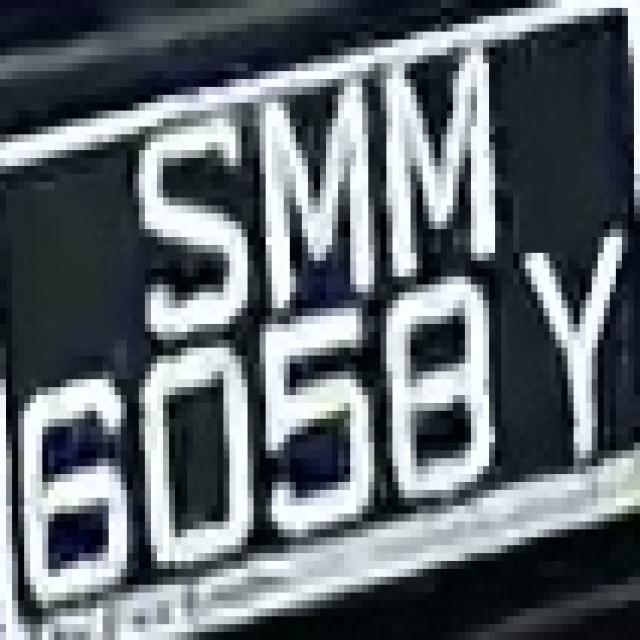0: (120, 324, 272, 577)
5: (248, 292, 374, 530)
6: (12, 356, 145, 616)
8: (374, 253, 514, 521)
M: (230, 55, 368, 308), (374, 48, 508, 292)
S: (109, 71, 254, 316)
Y: (507, 213, 628, 482)
